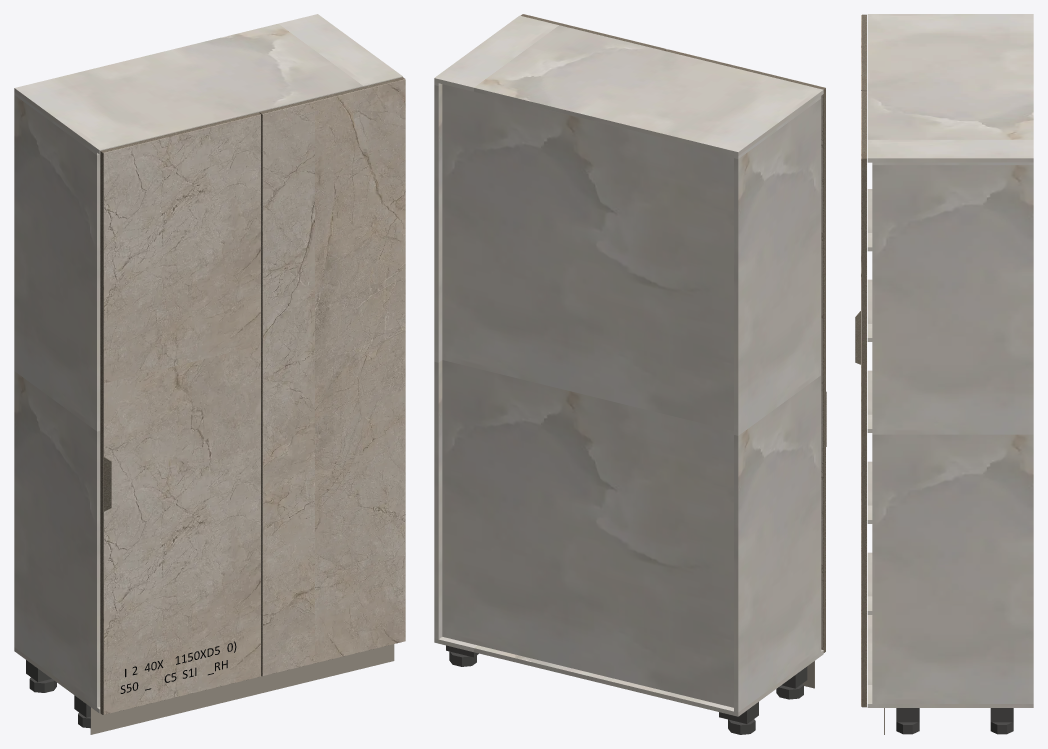
The model's file is TALL BLIND CABINET 5 L-SHELF (H2040XW1150XD560) S500_TBC5LS1HS_RH.glb.
3 renders of one model, left to right at view 1: azimuth 30°, elevation 25°; view 2: azimuth 150°, elevation 25°; view 3: azimuth 270°, elevation 25°, orthographic. The views are drawn at different scales.
Size of what is drawn, in the model's own units: 1.15 by 2.14 by 0.6.
6 materials, 3 textured.
